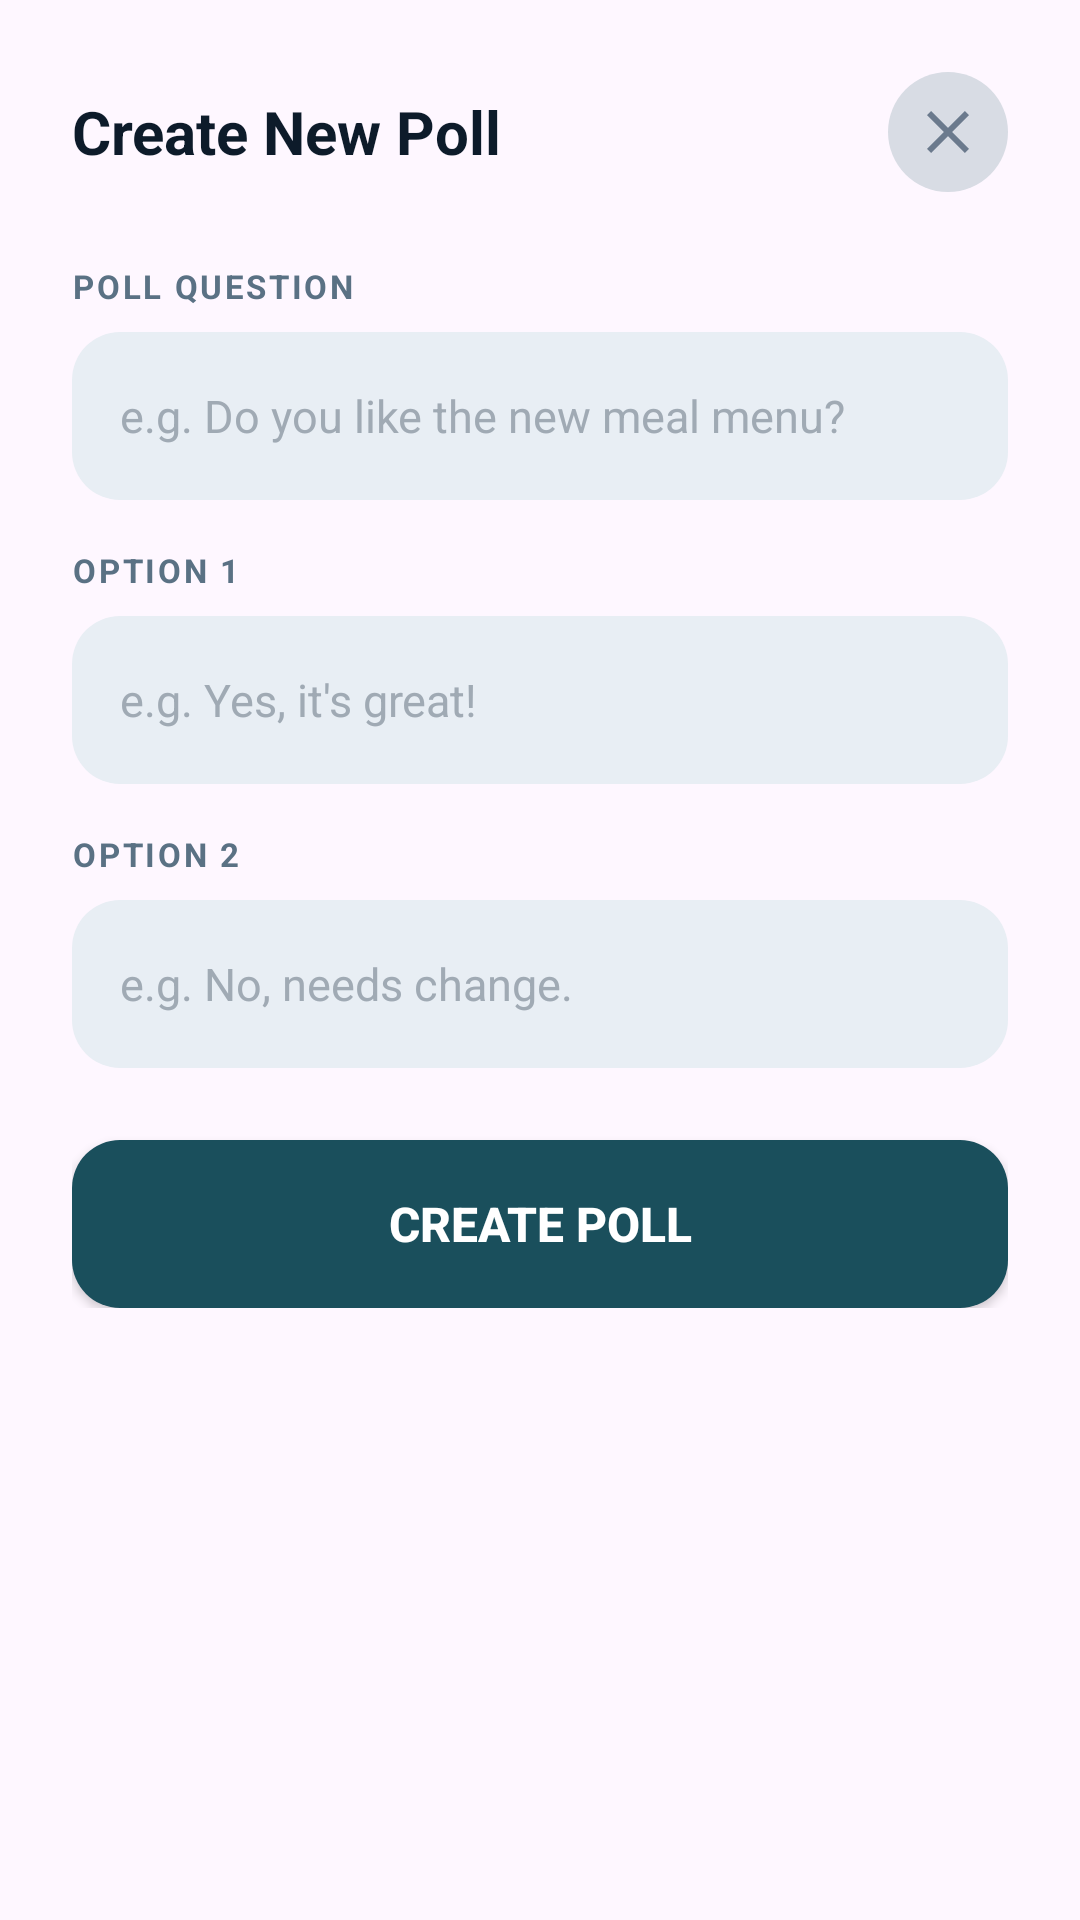

Screen size 1080 × 1920. Icon name, then its center in pixels as point (x, y):
Close: point (948, 132)
